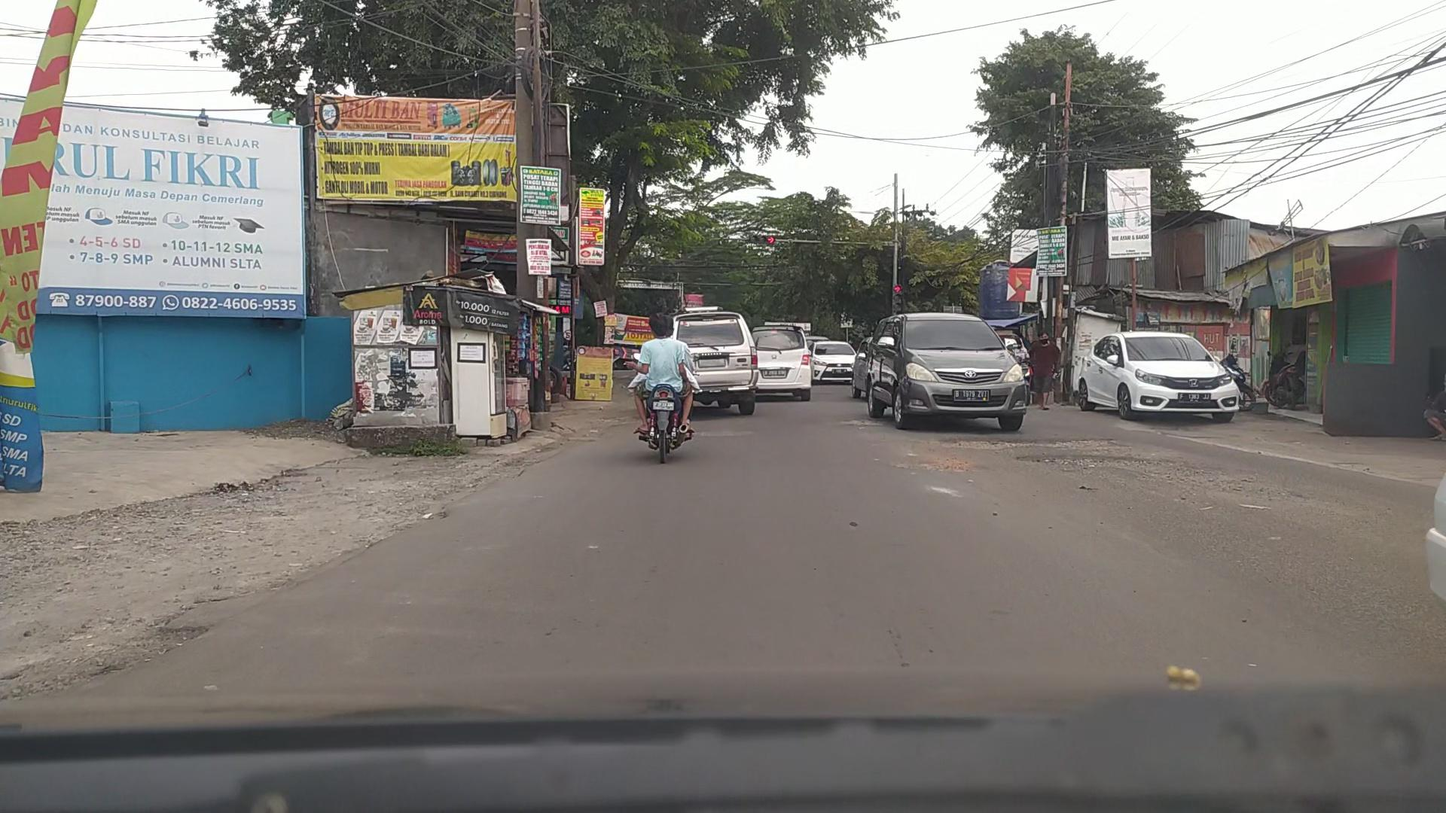pothole: (1019, 452, 1240, 490), (942, 434, 1110, 453)
